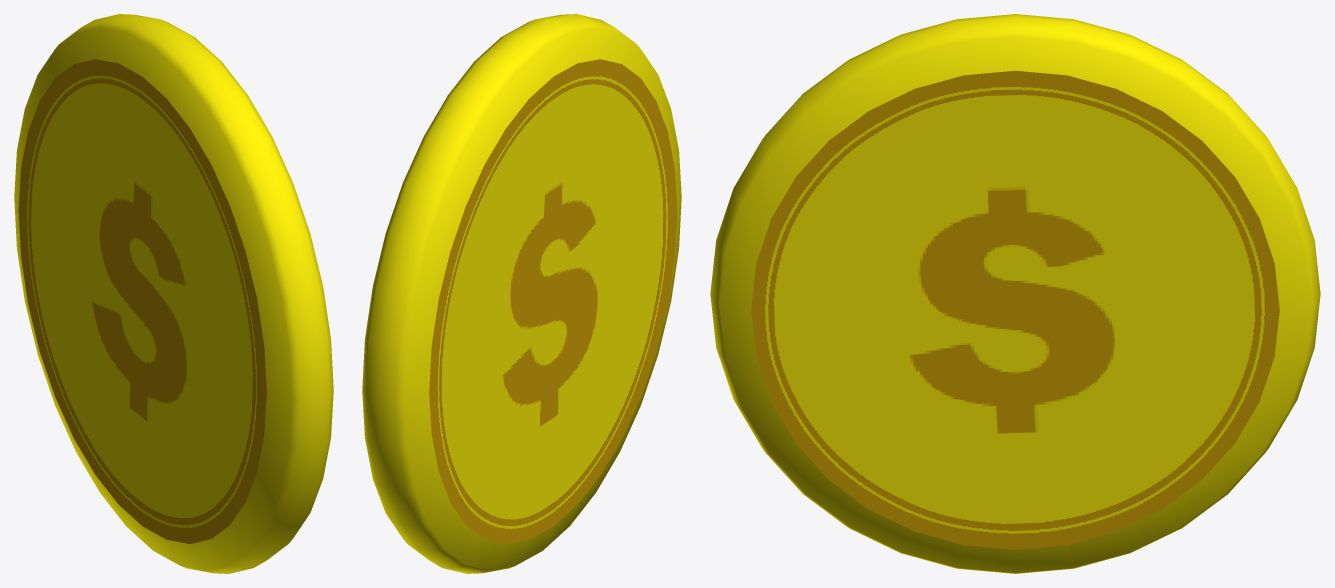
File: coin (1).fbx
The picture shows the model from 3 angles, left to right: view 1: azimuth 30°, elevation 25°; view 2: azimuth 150°, elevation 25°; view 3: azimuth 270°, elevation 25°; orthographic projection. The views are drawn at different scales.
Parts seen in each view (by area): view 1: Cylinder; view 2: Cylinder; view 3: Cylinder.
Boxes of the visible parts, bbox=[...] form: Cylinder: bbox=[14, 14, 333, 573]; Cylinder: bbox=[362, 14, 681, 573]; Cylinder: bbox=[710, 14, 1320, 573].
Bounding box in the file's own units: 24.7 × 196 × 196.
1 material, 1 textured.
